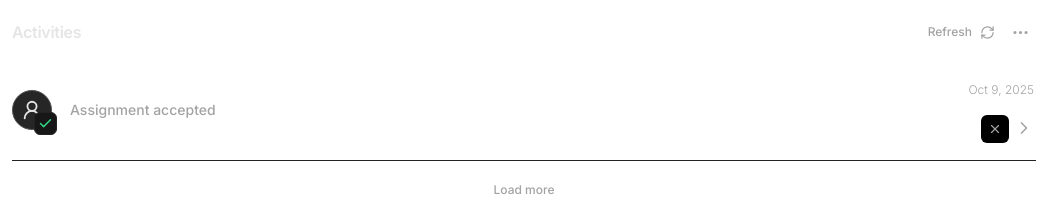
Scenario: TileShareActivityTimeline › clears hidden activity and reloads only when the tab returns
Check: the text "Assignment accepted" is shown, box x1=70 y1=101 x2=216 y2=118
Click the button "Load more".
click(524, 190)  # box x1=12 y1=173 x2=1036 y2=207
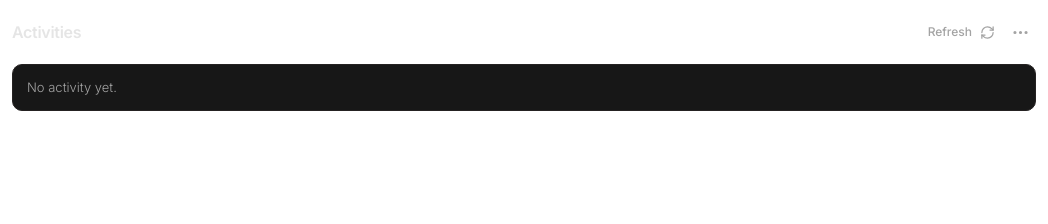
Check: the link "Assignment accepted" is gone
Check: the text "No activity yet." is shown, box x1=12 y1=64 x2=1036 y2=111
